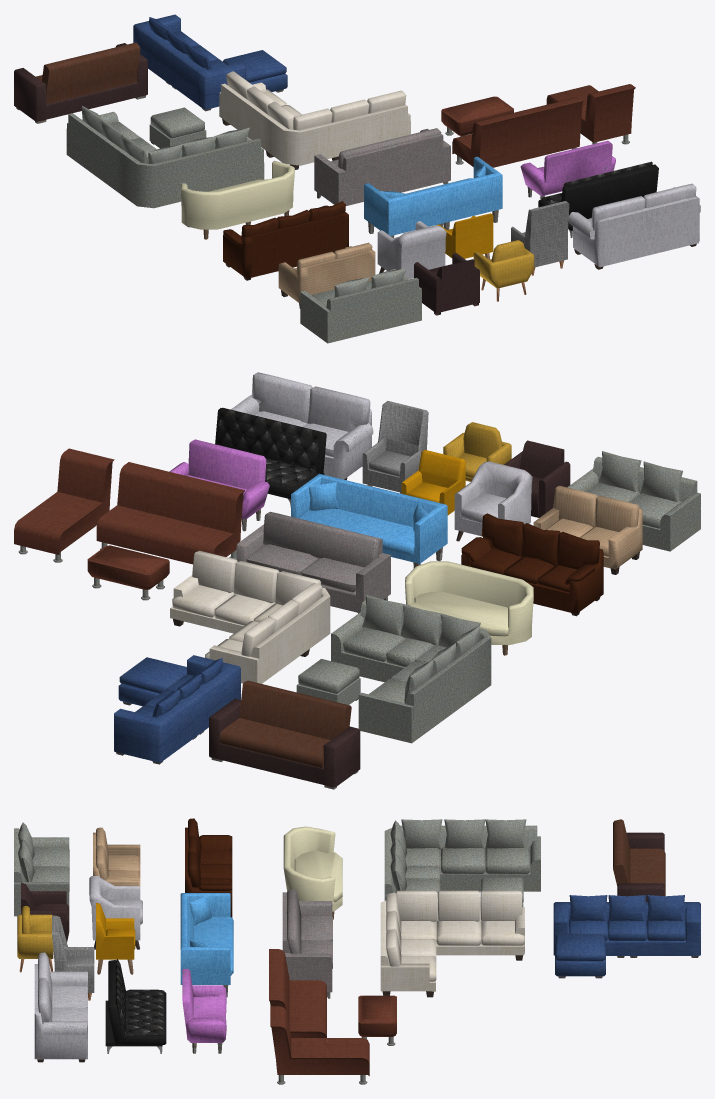
File: Armchair.fbx
3 views of the same model, one above another, from view 1: azimuth 30°, elevation 25°; view 2: azimuth 150°, elevation 25°; view 3: azimuth 270°, elevation 25° (orthographic). The views are drawn at different scales.
Visible parts, largest first — view 1: Armchair_18, Armchair_17, Armchair, Armchair_22, Armchair_15, Armchair_04, Armchair_11, Armchair_10, Armchair_13, Armchair_20, Armchair_16, Armchair_08 (+11 smaller); view 2: Armchair_18, Armchair_17, Armchair_22, Armchair_13, Armchair_15, Armchair_11, Armchair_10, Armchair_20, Armchair_16, Armchair, Armchair_04, Armchair_12 (+11 smaller); view 3: Armchair_17, Armchair_18, Armchair_20, Armchair, Armchair_10, Armchair_12, Armchair_15, Armchair_16, Armchair_05, Armchair_22, Armchair_04, Armchair_13 (+11 smaller).
Part boxes in pixels (x1=…): Armchair_18: x1=66, y1=106, x2=264, y2=208; Armchair_17: x1=219, y1=71, x2=410, y2=169; Armchair: x1=568, y1=183, x2=700, y2=269; Armchair_22: x1=14, y1=42, x2=147, y2=123; Armchair_15: x1=314, y1=128, x2=450, y2=205; Armchair_04: x1=300, y1=267, x2=421, y2=343; Armchair_11: x1=223, y1=201, x2=348, y2=280; Armchair_10: x1=364, y1=156, x2=502, y2=237; Armchair_13: x1=452, y1=97, x2=583, y2=167; Armchair_20: x1=133, y1=14, x2=245, y2=111; Armchair_16: x1=180, y1=160, x2=294, y2=239; Armchair_08: x1=278, y1=242, x2=375, y2=308; Armchair_18: x1=331, y1=594, x2=491, y2=743; Armchair_17: x1=170, y1=550, x2=330, y2=683; Armchair_22: x1=209, y1=680, x2=360, y2=789; Armchair_13: x1=96, y1=462, x2=244, y2=564; Armchair_15: x1=236, y1=511, x2=390, y2=613; Armchair_11: x1=461, y1=513, x2=603, y2=616; Armchair_10: x1=291, y1=473, x2=447, y2=568; Armchair_20: x1=114, y1=655, x2=240, y2=764; Armchair_16: x1=405, y1=561, x2=533, y2=655; Armchair: x1=231, y1=372, x2=373, y2=480; Armchair_04: x1=567, y1=451, x2=700, y2=551; Armchair_12: x1=14, y1=448, x2=114, y2=562; Armchair_17: x1=380, y1=890, x2=524, y2=997; Armchair_18: x1=384, y1=819, x2=540, y2=900; Armchair_20: x1=553, y1=895, x2=700, y2=957; Armchair: x1=34, y1=952, x2=87, y2=1062; Armchair_10: x1=180, y1=893, x2=233, y2=997; Armchair_12: x1=270, y1=1006, x2=369, y2=1084; Armchair_15: x1=282, y1=889, x2=332, y2=998; Armchair_16: x1=283, y1=826, x2=342, y2=919; Armchair_05: x1=105, y1=959, x2=166, y2=1053; Armchair_22: x1=613, y1=819, x2=665, y2=901; Armchair_04: x1=14, y1=822, x2=69, y2=916; Armchair_13: x1=269, y1=949, x2=326, y2=1037.
Size of the model in its own units: 926 by 140 by 1239.
